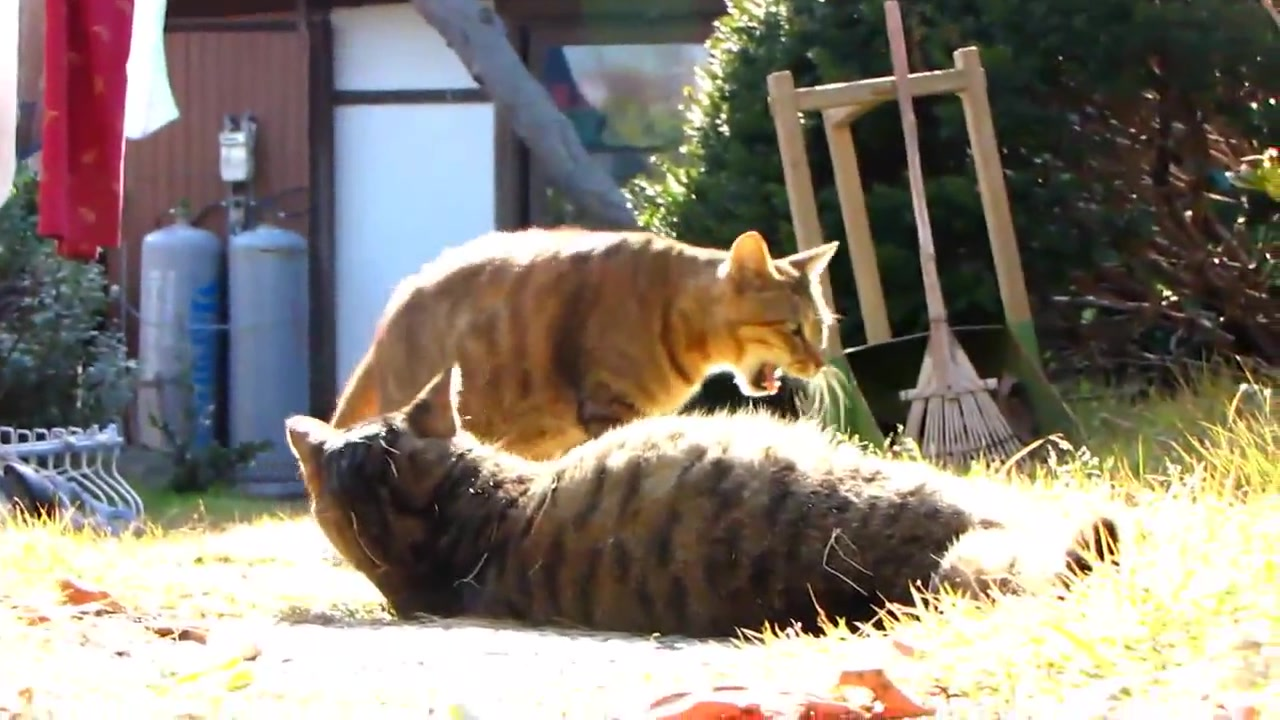cat: (275, 368, 1122, 643), (329, 225, 844, 461)
